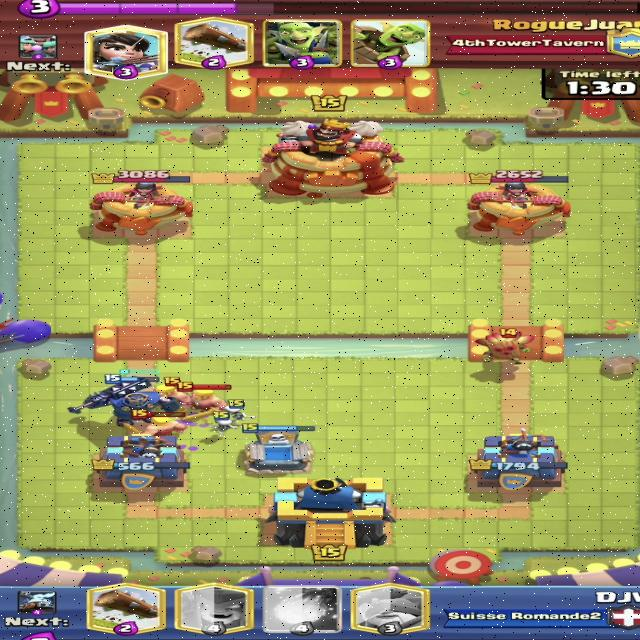Enemy-Barbarian: (174, 381, 235, 422), (122, 409, 188, 438), (142, 376, 186, 411)
Enemy-DartGoblin: (473, 328, 534, 366)
Player-Skeleton: (220, 399, 256, 422), (206, 412, 241, 435)
Player-SkeletonKing: (65, 368, 181, 429)
Player-Tombstone: (240, 423, 318, 475)
